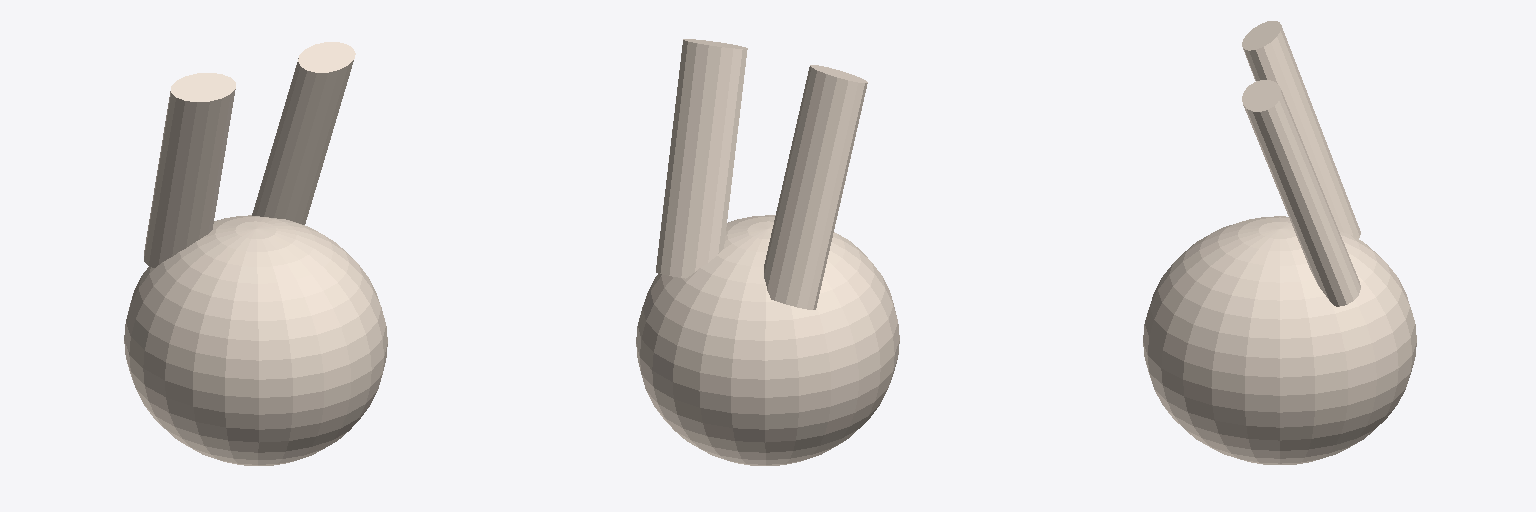
The model's file is gem_type_3.obj.
3 views of the same model, side by side, from view 1: azimuth 30°, elevation 25°; view 2: azimuth 150°, elevation 25°; view 3: azimuth 270°, elevation 25° (orthographic).
Visible parts, largest first — view 1: gem_type_3; view 2: gem_type_3; view 3: gem_type_3.
Boxes of the visible parts, x1=… form: gem_type_3: x1=124, y1=42, x2=387, y2=465; gem_type_3: x1=636, y1=39, x2=899, y2=465; gem_type_3: x1=1143, y1=21, x2=1416, y2=464.
Bounding box in the file's own units: 0.608 × 1.01 × 0.64.